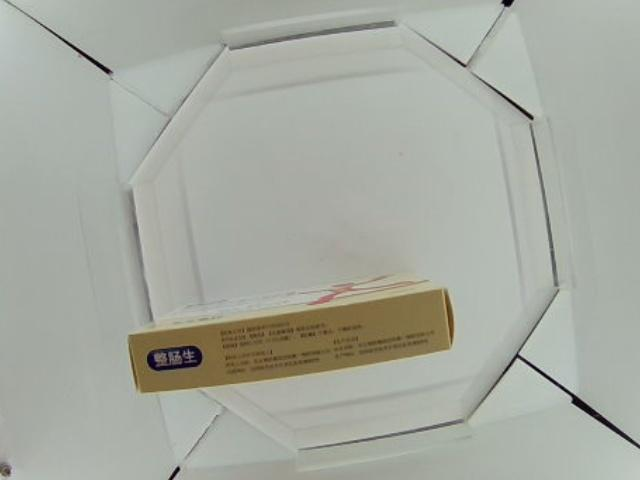Medicine: (130, 272, 457, 395)
